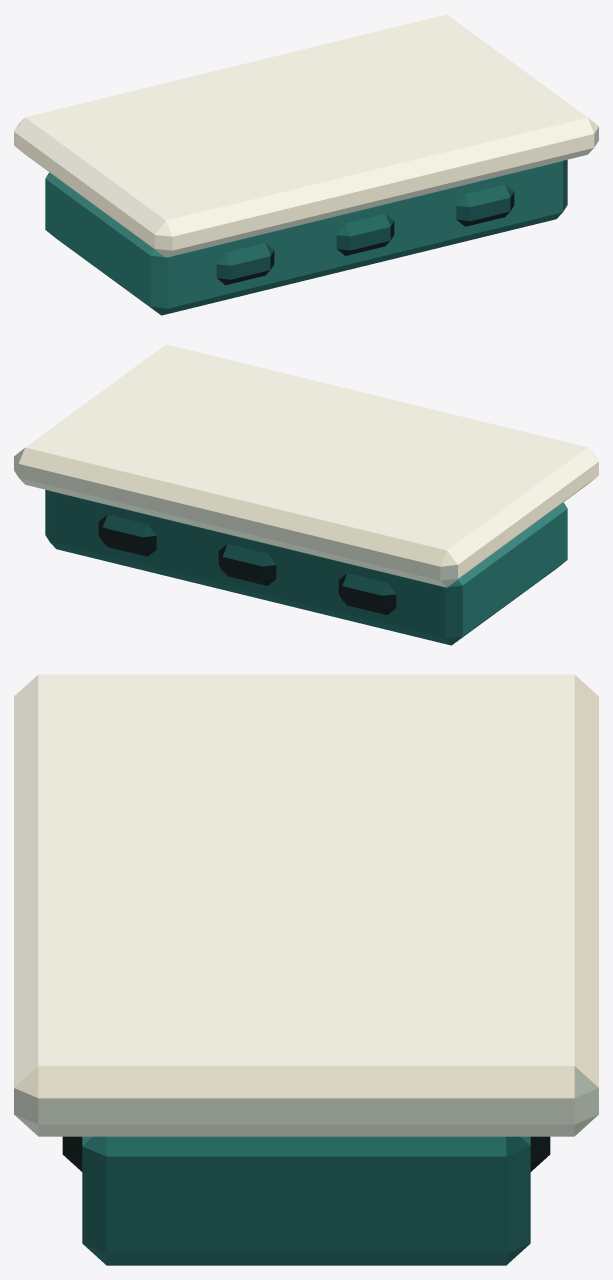
The model's file is OneWay.gltf.
The picture shows the model from 3 angles, top to bottom: view 1: azimuth 30°, elevation 25°; view 2: azimuth 150°, elevation 25°; view 3: azimuth 270°, elevation 25°; orthographic projection. The views are drawn at different scales.
Parts seen in each view (by area): view 1: OneWay_baked; view 2: OneWay_baked; view 3: OneWay_baked.
Part boxes in pixels (x1,y1,x2,y2): OneWay_baked: (14, 14, 598, 315); OneWay_baked: (14, 344, 598, 645); OneWay_baked: (14, 674, 598, 1265).
Bounding box in the file's own units: 1 × 0.24 × 0.6.
